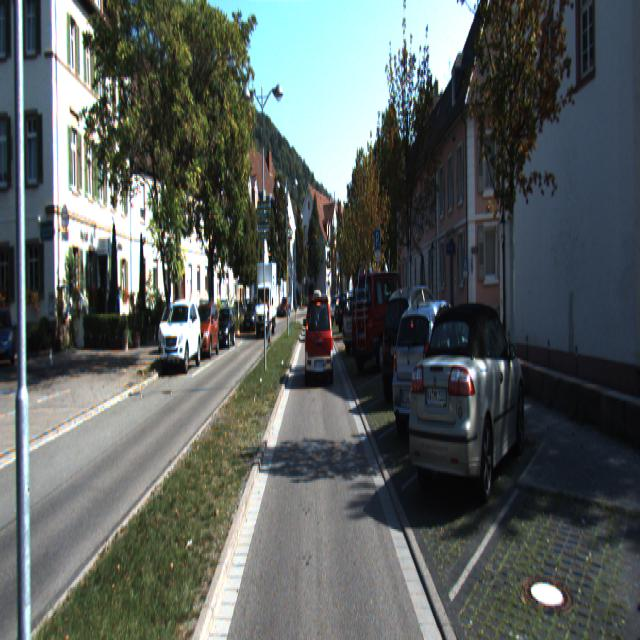Car: (407, 295, 528, 509), (389, 294, 479, 444), (381, 282, 452, 406), (349, 270, 412, 374), (161, 299, 201, 373), (342, 294, 388, 356), (306, 296, 335, 387), (191, 303, 220, 361), (254, 267, 277, 339), (334, 293, 364, 333), (158, 305, 182, 355), (0, 306, 16, 364), (213, 310, 236, 349), (243, 301, 260, 332)
